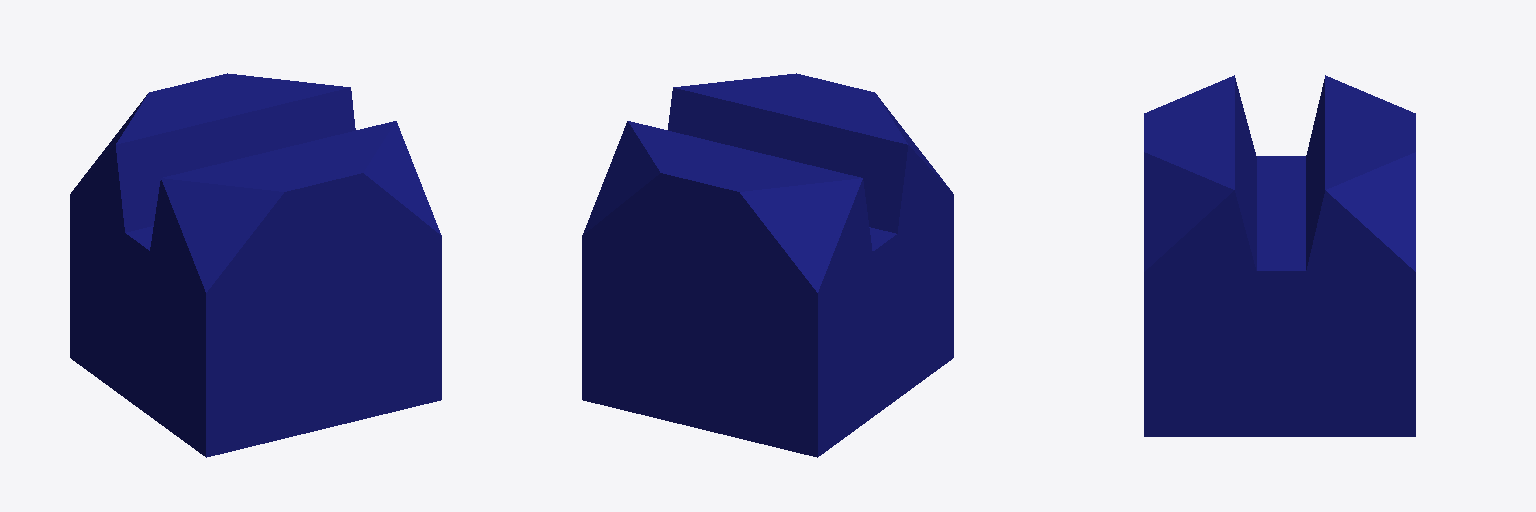
The model's file is gatling-base.obj.
3 renders of one model, left to right at view 1: azimuth 30°, elevation 25°; view 2: azimuth 150°, elevation 25°; view 3: azimuth 270°, elevation 25°, orthographic.
Parts seen in each view (by area): view 1: Cube_Cube.001; view 2: Cube_Cube.001; view 3: Cube_Cube.001.
Boxes of the visible parts, x1=… form: Cube_Cube.001: x1=70, y1=73, x2=441, y2=457; Cube_Cube.001: x1=582, y1=73, x2=953, y2=457; Cube_Cube.001: x1=1144, y1=75, x2=1415, y2=436.
Size of the model in its own units: 2 by 2 by 2.